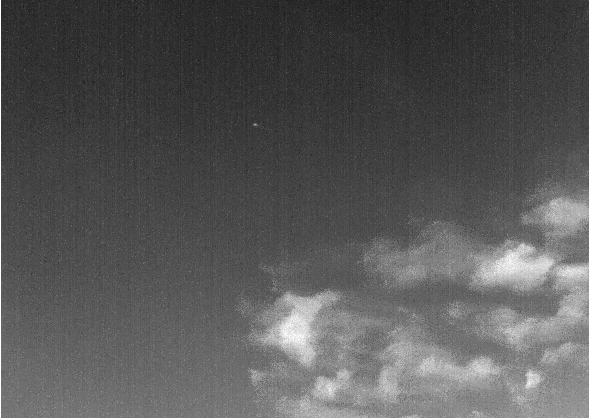dim target: (252, 122, 258, 127)
